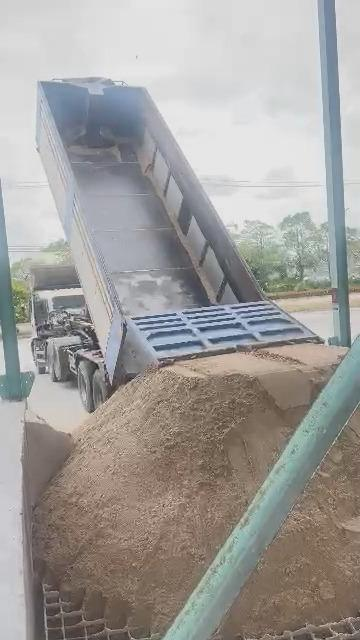sand: (36, 345, 342, 631), (224, 414, 360, 635), (24, 411, 72, 508)
